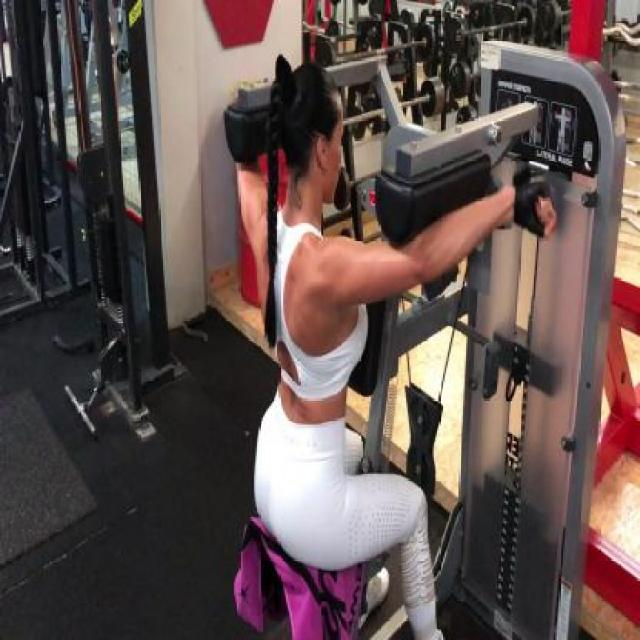lateral raises machine: (222, 35, 624, 640)
